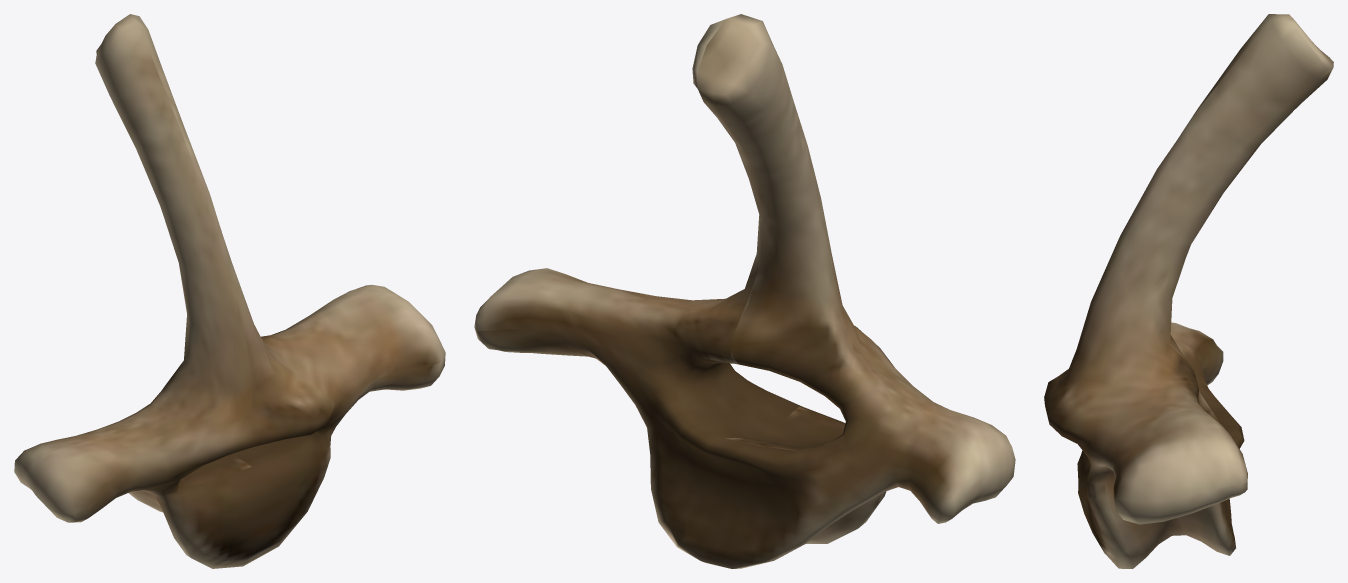
Rendered from Thoracic_Vertebrae9.glb.
3 views of the same model, side by side, from view 1: azimuth 30°, elevation 25°; view 2: azimuth 150°, elevation 25°; view 3: azimuth 270°, elevation 25° (orthographic). The views are drawn at different scales.
Parts seen in each view (by area): view 1: Horse_low:SelSet_50Merged_L_Frt_Sesamoid_Bones_1; view 2: Horse_low:SelSet_50Merged_L_Frt_Sesamoid_Bones_1; view 3: Horse_low:SelSet_50Merged_L_Frt_Sesamoid_Bones_1.
Part boxes in pixels (x1,y1,x2,y2): Horse_low:SelSet_50Merged_L_Frt_Sesamoid_Bones_1: (14,14,445,568); Horse_low:SelSet_50Merged_L_Frt_Sesamoid_Bones_1: (474,14,1015,568); Horse_low:SelSet_50Merged_L_Frt_Sesamoid_Bones_1: (1044,14,1333,568).
Bounding box in the file's own units: 0.1375 × 0.1613 × 0.0805.
1 material, 1 textured.
